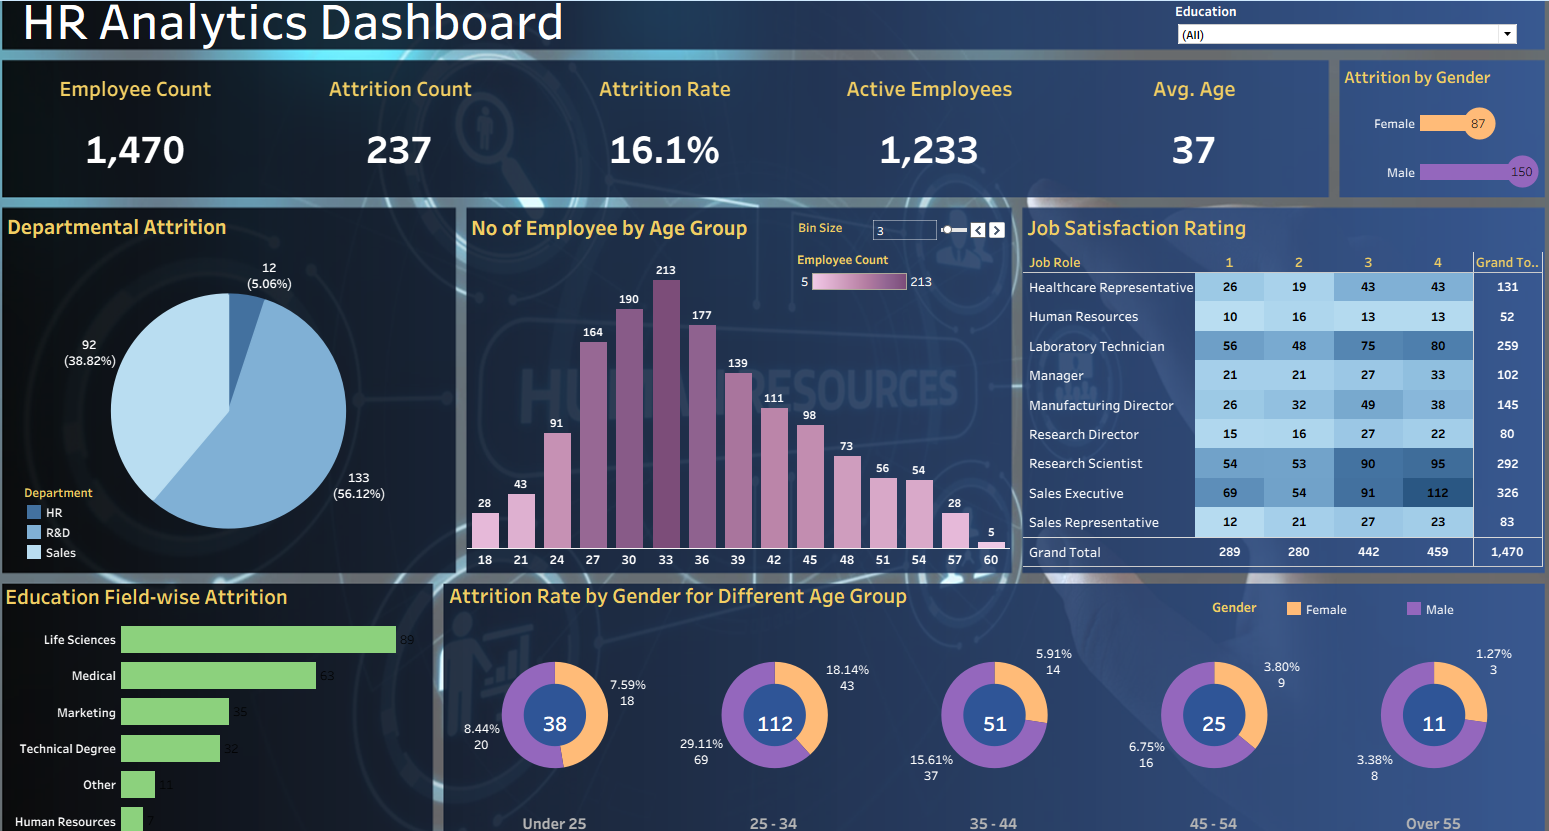

This screenshot's page, from the dashboard's own definition file:
{"tool":"tableau","page":{"name":"HR Analytics Dashboard","canvas":[1580,900],"ordinal":0},"visuals":[{"type":"image","param":"C:/Users/User/AyinkulumeFilesOnDisk/DataAnalytics-DataAnalysis/DataAnalytics-Pro","box":[8,8,1564,884]},{"type":"text","box":[36,24,559,66]},{"type":"filter","title":"Departmental Attrition","param":"[federated.0k9rupk1p9x2hl1b22i9t1jnqems].[none:Education:nk]","box":[1192,39,345,53]},{"type":"worksheet","title":"KPI","mark":"Automatic","box":[20,99,1324,133]},{"type":"worksheet","title":"Attrition by Gender","mark":"Automatic","rows":["Gender"],"cols":["Calculation_0189981415796736","Calculation_0189981415796736"],"box":[1357,99,204,134]},{"type":"worksheet","title":"Departmental Attrition","mark":"Pie","box":[20,245,451,364]},{"type":"worksheet","title":"No of Employee by Age Group","mark":"Automatic","rows":["Employee Count"],"cols":["Age (bin)"],"box":[484,246,543,360]},{"type":"worksheet","title":"Job Satisfaction Rating","mark":"Square","rows":["Job Role"],"cols":["Job Satisfaction"],"box":[1040,246,520,358]},{"type":"parameter","param":"[Parameters].[Parameter 2]","box":[815,254,210,29]},{"type":"legend","title":"No of Employee by Age Group","param":"[federated.0k9rupk1p9x2hl1b22i9t1jnqems].[sum:Employee Count:qk]","box":[814,288,140,48]},{"type":"legend","title":"Departmental Attrition","param":"[federated.0k9rupk1p9x2hl1b22i9t1jnqems].[none:Department:nk]","box":[41,521,104,78]},{"type":"worksheet","title":"Attrition Rate by Gender for Different Age Group","mark":"Pie","rows":["Calculation_1178442465533953","Calculation_1178442465533953"],"cols":["CF_age band"],"box":[462,614,1099,258]},{"type":"worksheet","title":"Education Field-wise Attrition","mark":"Automatic","rows":["Education Field"],"cols":["Calculation_0189981415796736"],"box":[18,615,432,261]},{"type":"legend","title":"Attrition Rate by Gender for Different Age Group","param":"[federated.0k9rupk1p9x2hl1b22i9t1jnqems].[none:Gender:nk]","box":[1229,636,318,16]}]}

Visuals, with their boxes on the page's 1580x900 design canvas (x1, y1, x2, y2). These are canvas units, not pixel positions in the 1549x831 screenshot, which may show the page scaled, cropped or inside an application window:
image: [x1=8, y1=8, x2=1572, y2=892]
text: [x1=36, y1=24, x2=595, y2=90]
"Departmental Attrition" filter: [x1=1192, y1=39, x2=1537, y2=92]
"KPI" worksheet: [x1=20, y1=99, x2=1344, y2=232]
"Attrition by Gender" worksheet: [x1=1357, y1=99, x2=1561, y2=233]
"Departmental Attrition" worksheet (Pie marks): [x1=20, y1=245, x2=471, y2=609]
"No of Employee by Age Group" worksheet: [x1=484, y1=246, x2=1027, y2=606]
"Job Satisfaction Rating" worksheet (Square marks): [x1=1040, y1=246, x2=1560, y2=604]
parameter: [x1=815, y1=254, x2=1025, y2=283]
"No of Employee by Age Group" legend: [x1=814, y1=288, x2=954, y2=336]
"Departmental Attrition" legend: [x1=41, y1=521, x2=145, y2=599]
"Attrition Rate by Gender for Different Age Group" worksheet (Pie marks): [x1=462, y1=614, x2=1561, y2=872]
"Education Field-wise Attrition" worksheet: [x1=18, y1=615, x2=450, y2=876]
"Attrition Rate by Gender for Different Age Group" legend: [x1=1229, y1=636, x2=1547, y2=652]
